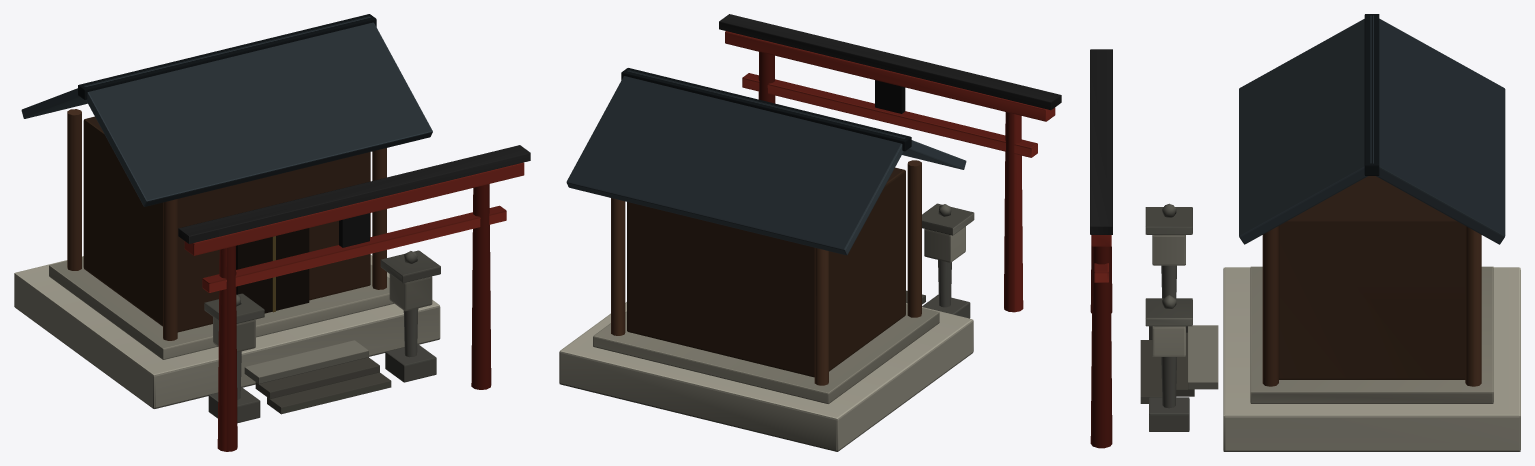
Rendered from shrine.glb.
3 renders of one model, left to right at view 1: azimuth 30°, elevation 25°; view 2: azimuth 150°, elevation 25°; view 3: azimuth 270°, elevation 25°, orthographic. The views are drawn at different scales.
Parts seen in each view (by area): view 1: shrine; view 2: shrine; view 3: shrine.
Part boxes in pixels (bbox=[...]): shrine: bbox=[14, 14, 530, 451]; shrine: bbox=[559, 14, 1061, 451]; shrine: bbox=[1090, 14, 1520, 451].
Bounding box in the file's own units: 6.2 × 4.72 × 6.37.
